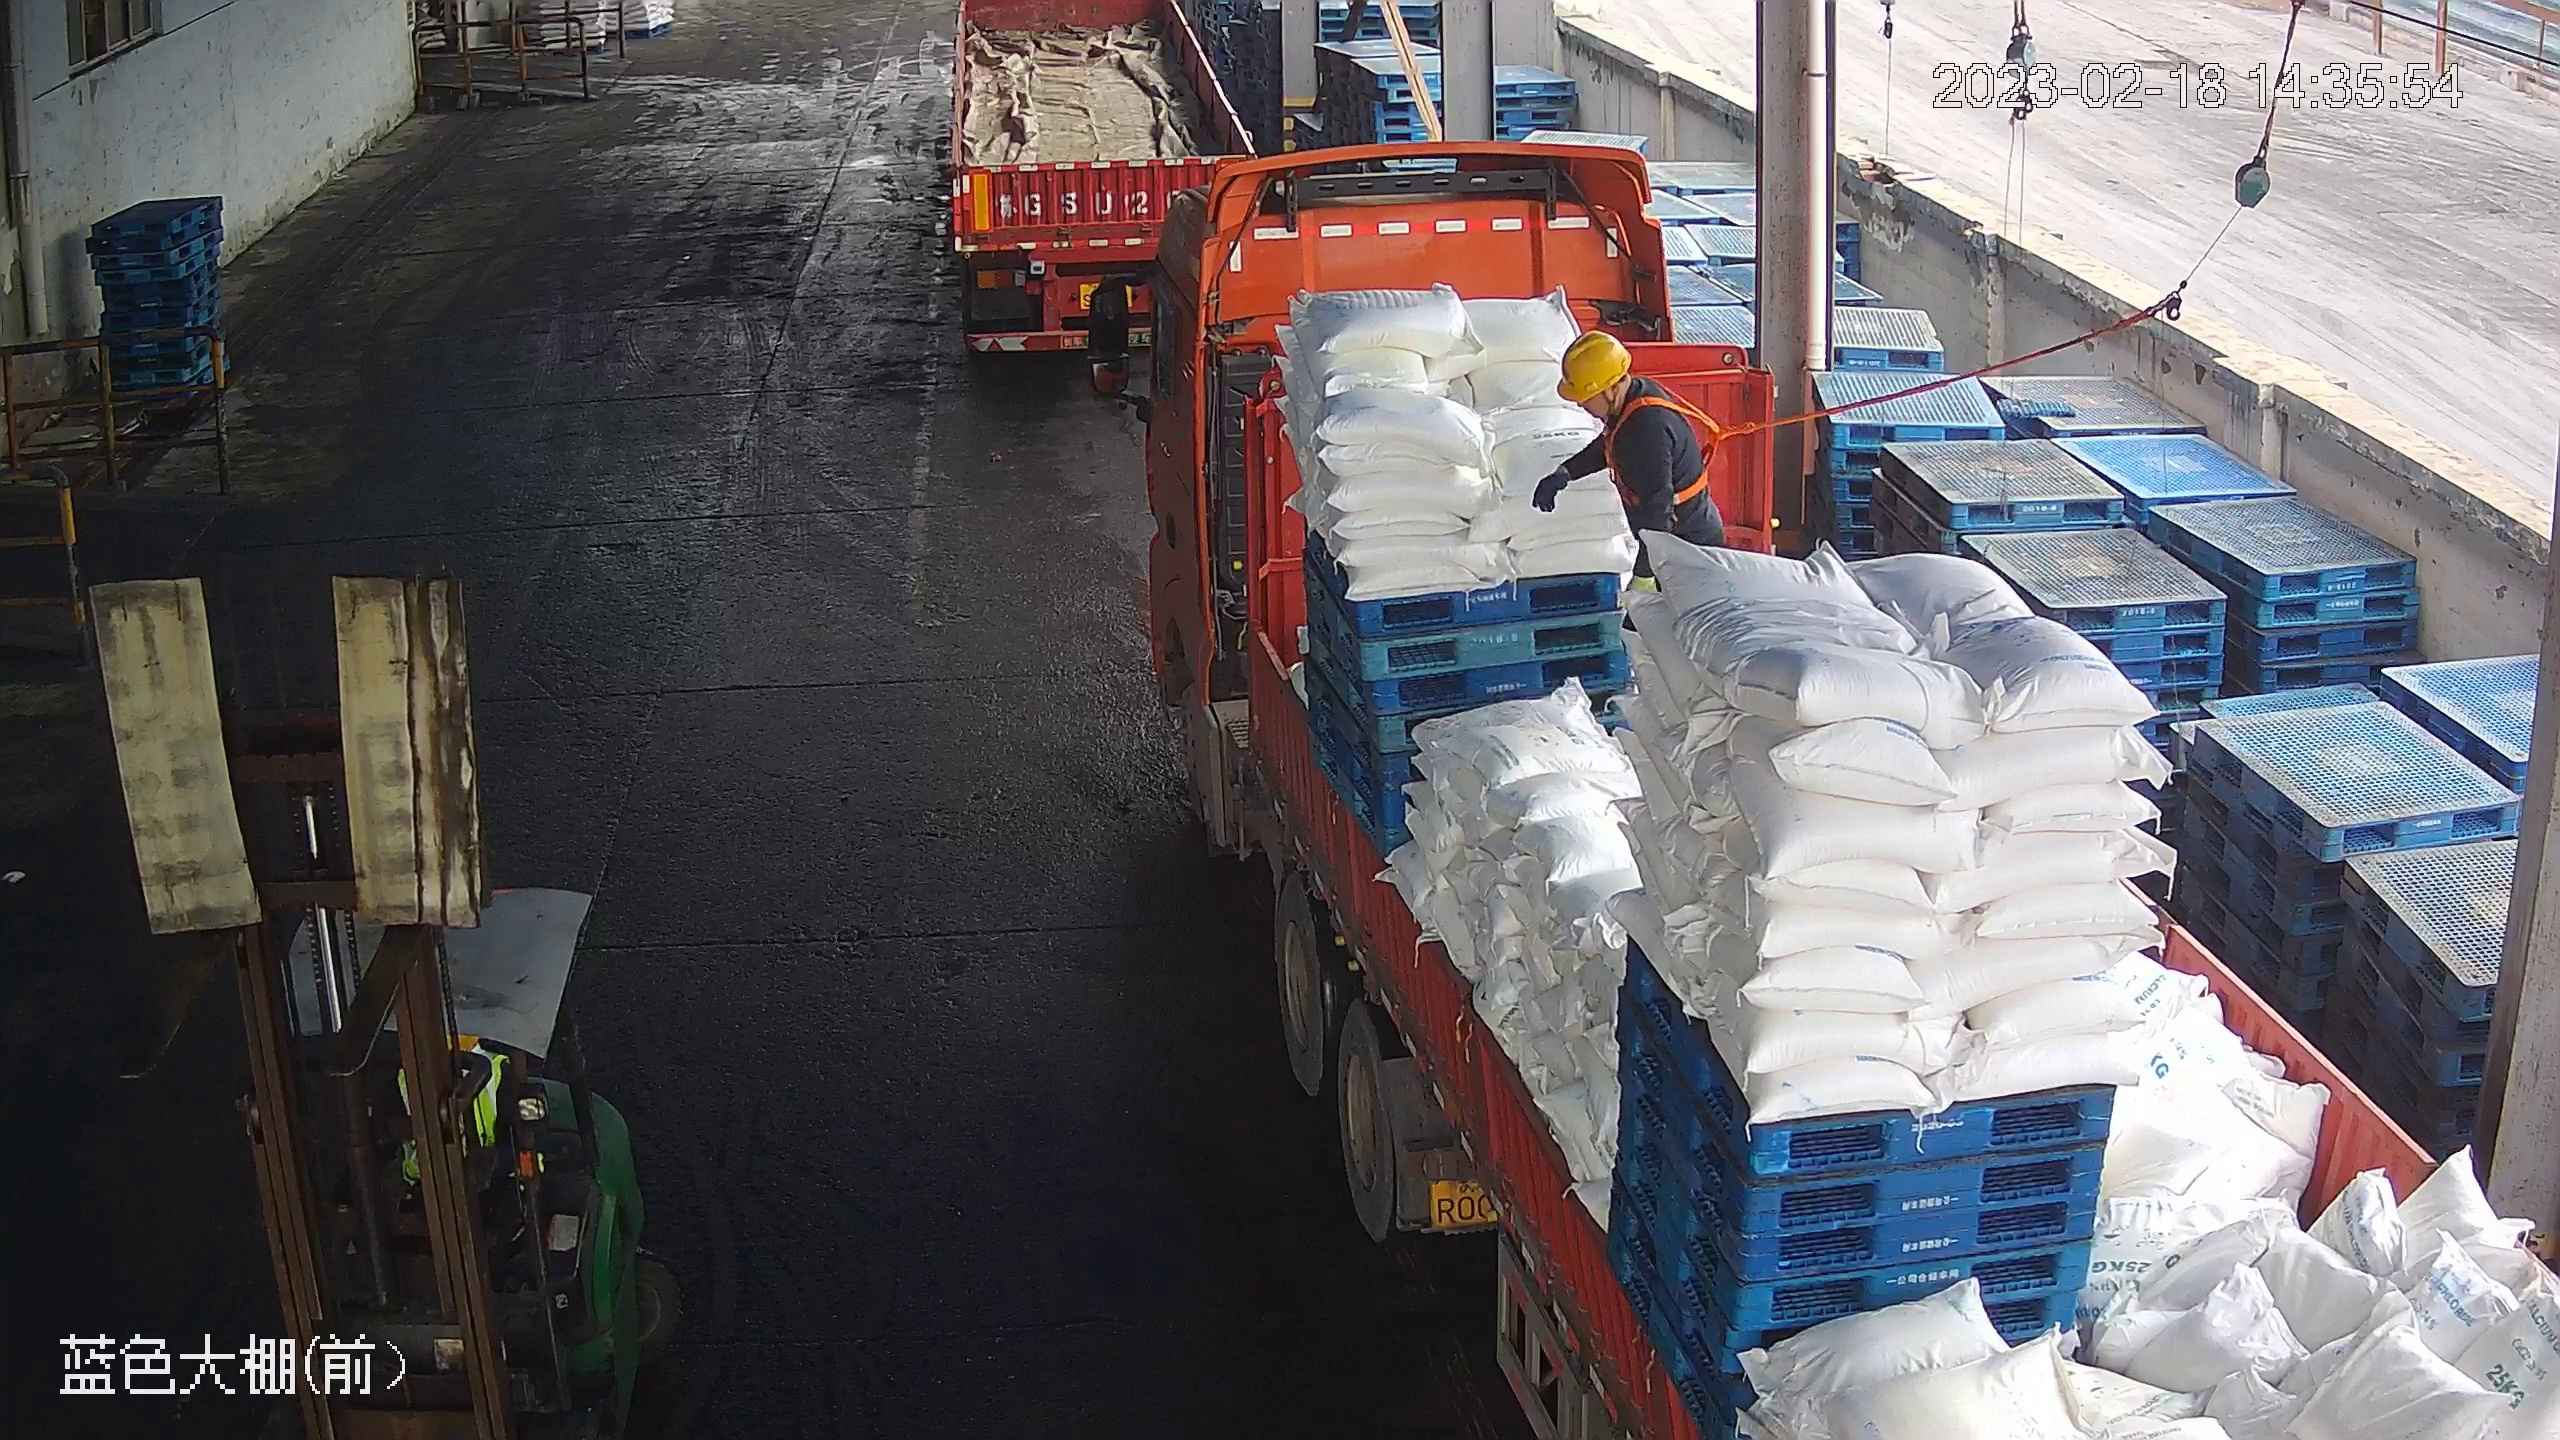belt: (1606, 371, 1733, 504)
head: (1553, 331, 1694, 476)
helmet: (1555, 330, 1634, 403)
people: (1533, 331, 1725, 632)
truck: (1090, 133, 2560, 1440), (944, 1, 1257, 393)
